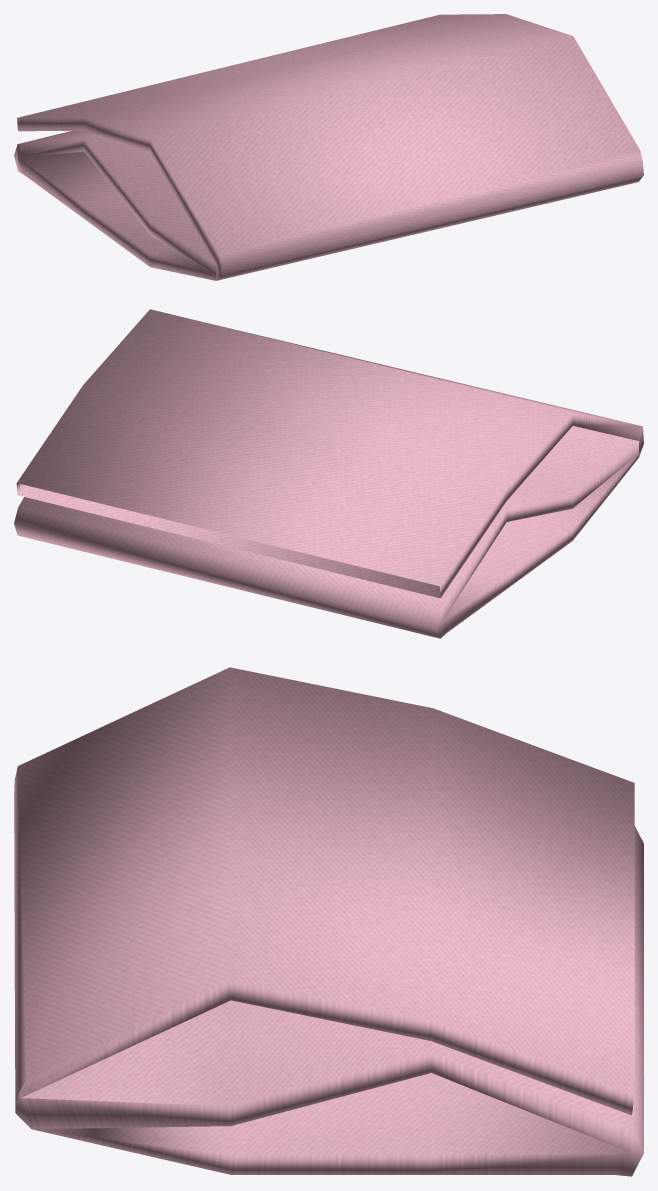
Rendered from Blanket_A.FBX.
3 renders of one model, top to bottom at view 1: azimuth 30°, elevation 25°; view 2: azimuth 150°, elevation 25°; view 3: azimuth 270°, elevation 25°, orthographic. The views are drawn at different scales.
Visible parts, largest first — view 1: Blanket; view 2: Blanket; view 3: Blanket.
Boxes of the visible parts, x1=… form: Blanket: x1=14, y1=14, x2=643, y2=280; Blanket: x1=14, y1=309, x2=643, y2=638; Blanket: x1=14, y1=667, x2=643, y2=1176.
Size of the model in its own units: 123 by 35.98 by 105.
